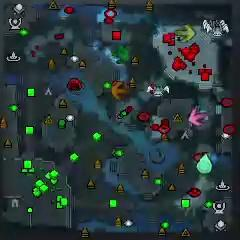p2: (196, 154, 213, 174)
x1: (189, 109, 208, 126)
x2: (176, 24, 196, 42)
x3: (196, 105, 211, 121)
x4: (115, 45, 132, 63)
x5: (110, 81, 129, 100)
